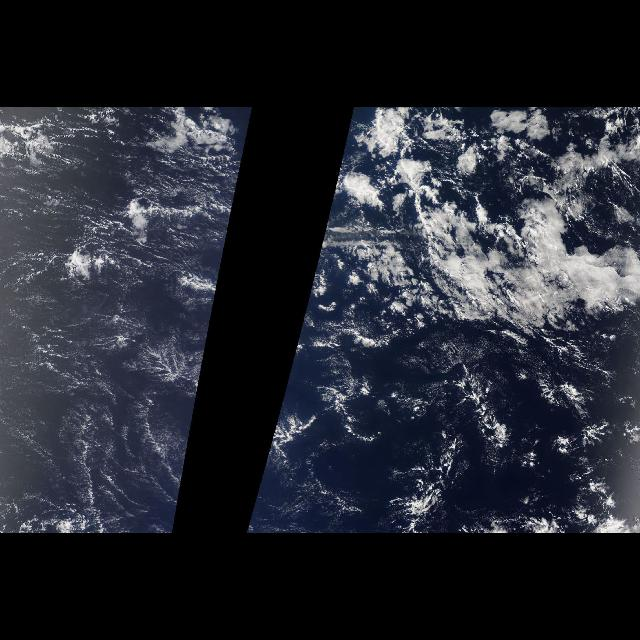Sugar: (11, 304, 173, 502)
